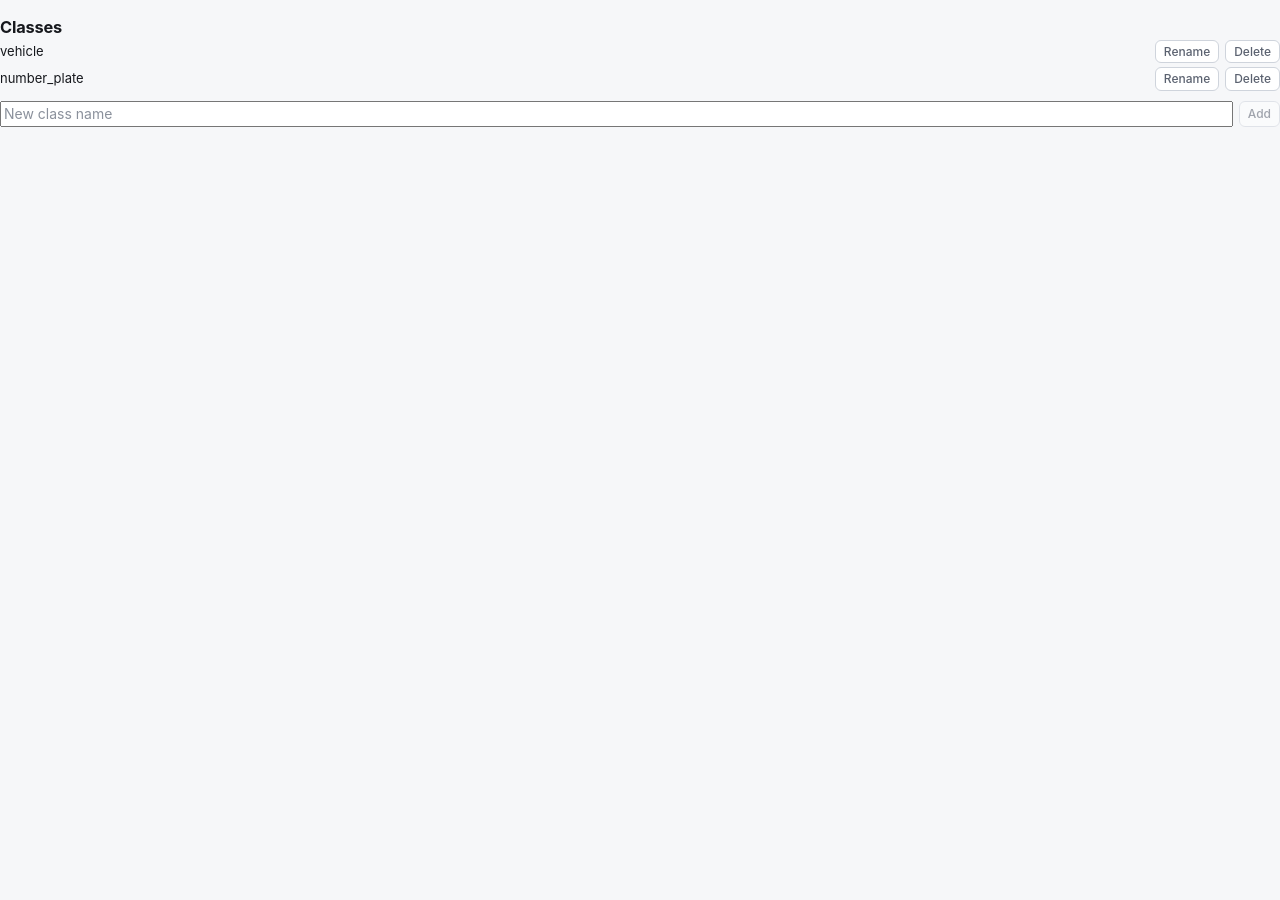
ClassSchemaEditor › asks where the labels go when a class is in use, with the real count
The width and height of the screenshot is (1280, 900).
Click the button with aria-label "delete number_plate" at x=1253, y=79, box 1225,67 -> 1279,90
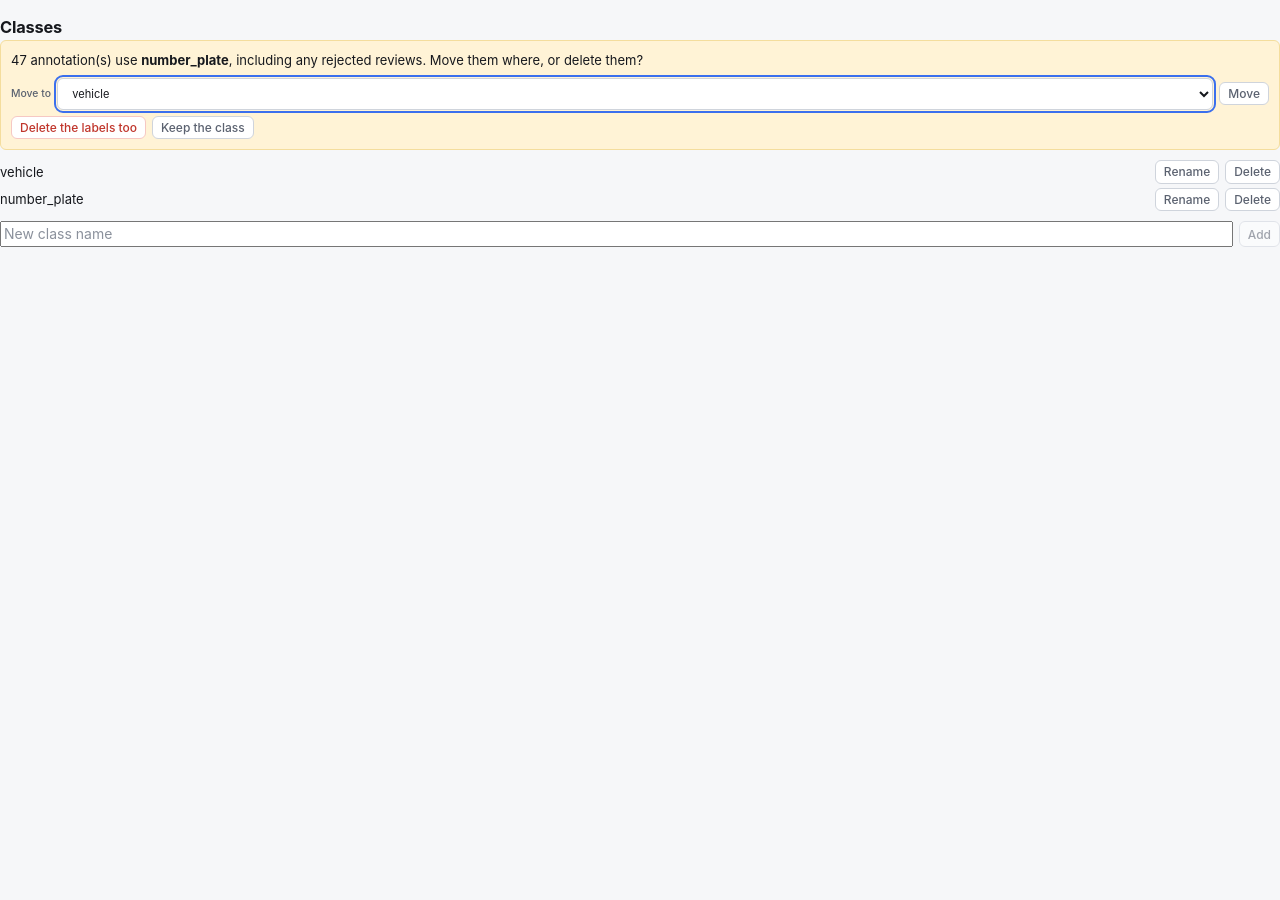
Now the dialog named "delete number_plate" shows "47 annotation", box 0,40 -> 1279,150
Now the dialog named "delete number_plate" shows "including any rejected reviews", box 229,52 -> 643,68
Now the dialog named "delete number_plate" shows "move them where, or delete them", box 229,52 -> 643,68
